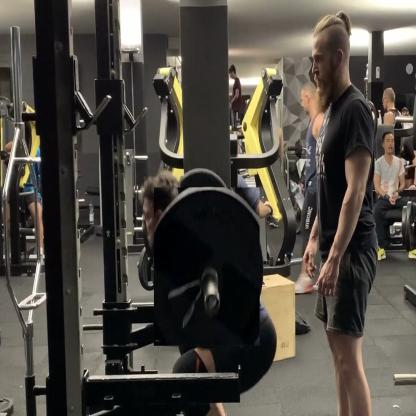barbell: (155, 189, 261, 347)
